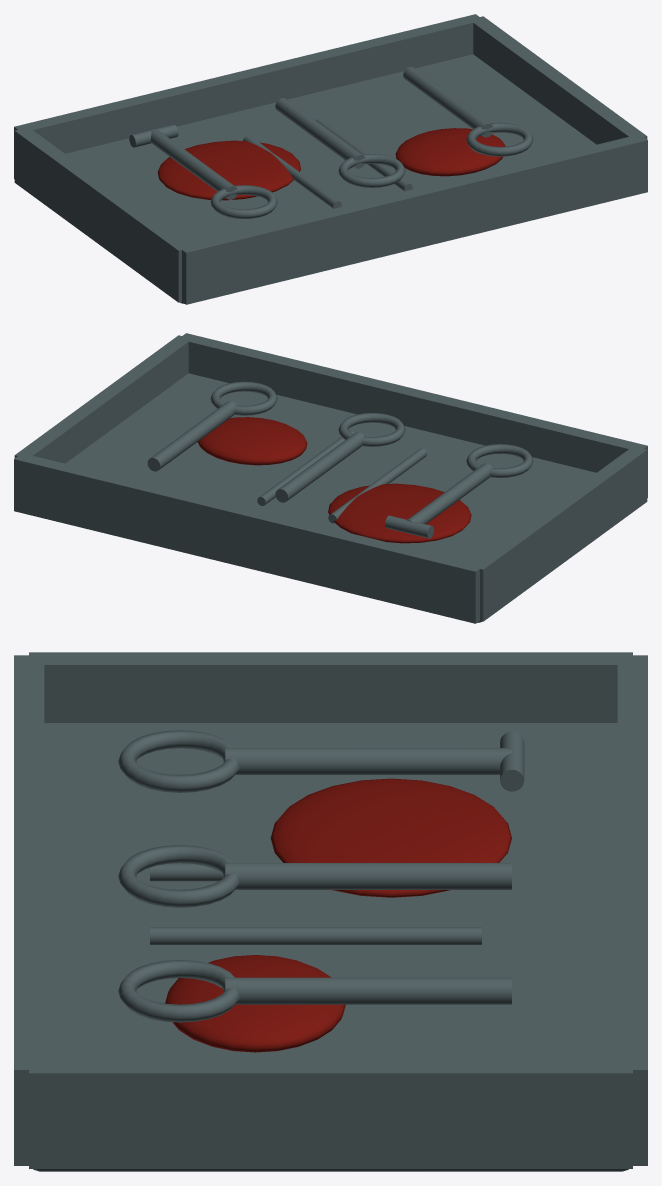
Rendered from MedicalTray.obj.
The picture shows the model from 3 angles, top to bottom: view 1: azimuth 30°, elevation 25°; view 2: azimuth 150°, elevation 25°; view 3: azimuth 270°, elevation 25°; orthographic projection. The views are drawn at different scales.
Parts seen in each view (by area): view 1: MedicalTray; view 2: MedicalTray; view 3: MedicalTray.
Part boxes in pixels (left/top/right/bottom): MedicalTray: left=14, top=14, right=647, bottom=304; MedicalTray: left=14, top=333, right=647, bottom=623; MedicalTray: left=14, top=652, right=647, bottom=1171.
Bounding box in the file's own units: 0.66 × 0.0775 × 0.42.
